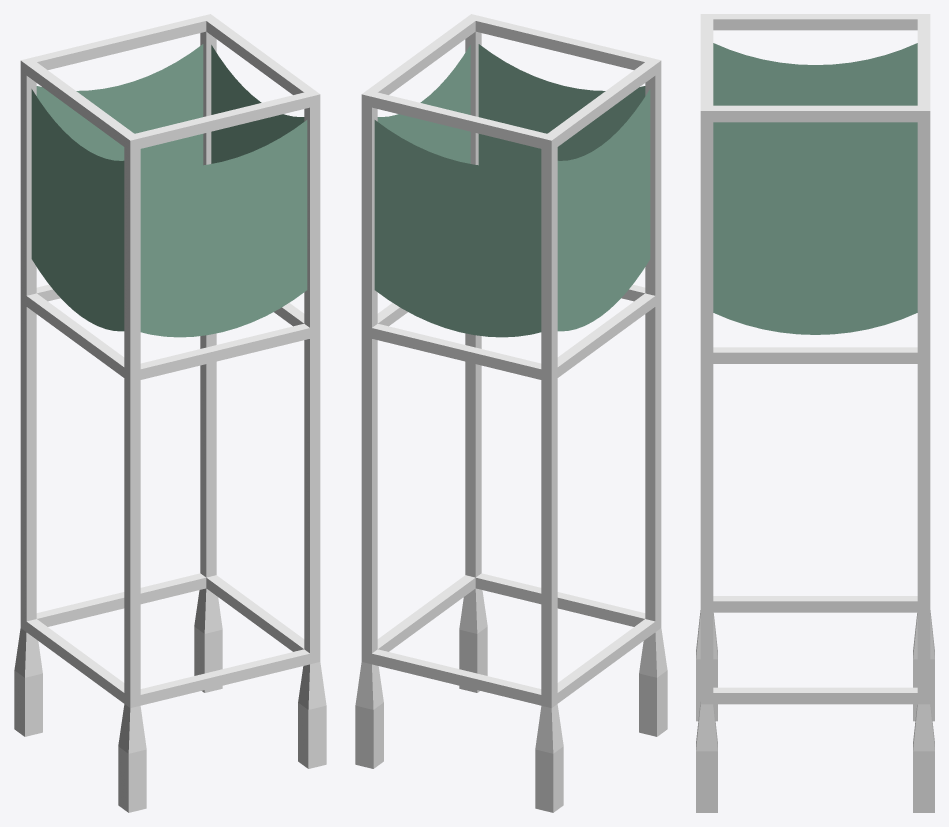
The model's file is bannerTowerGreen.glb.
3 views of the same model, side by side, from view 1: azimuth 30°, elevation 25°; view 2: azimuth 150°, elevation 25°; view 3: azimuth 270°, elevation 25° (orthographic). The views are drawn at different scales.
Parts seen in each view (by area): view 1: bannerTowerGreen(Clone); view 2: bannerTowerGreen(Clone); view 3: bannerTowerGreen(Clone).
Part boxes in pixels (x1=…): bannerTowerGreen(Clone): x1=14, y1=14, x2=326, y2=812; bannerTowerGreen(Clone): x1=355, y1=14, x2=667, y2=812; bannerTowerGreen(Clone): x1=696, y1=14, x2=934, y2=812.
Bounding box in the file's own units: 0.3852 × 1.25 × 0.3852.
Materials: 1 (1 with a texture image).
